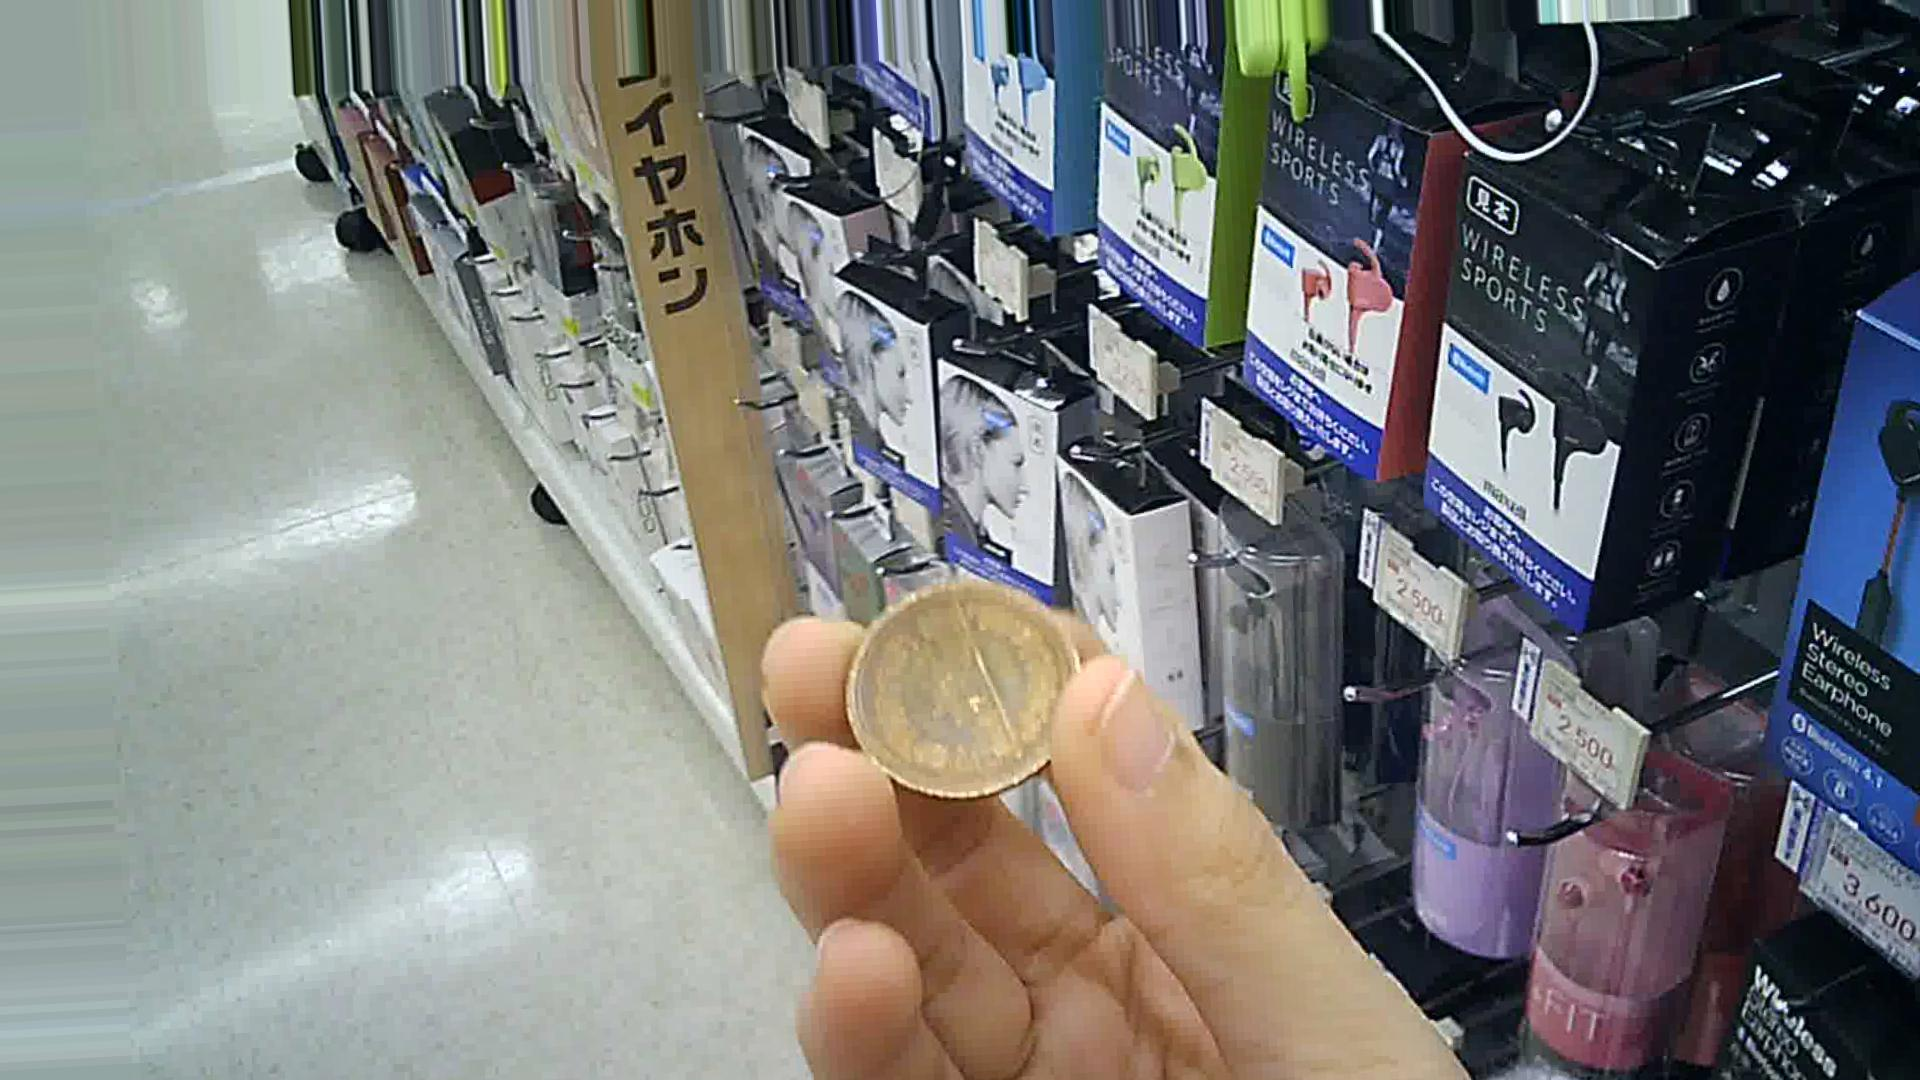10 Yen: (848, 563, 1102, 822)
